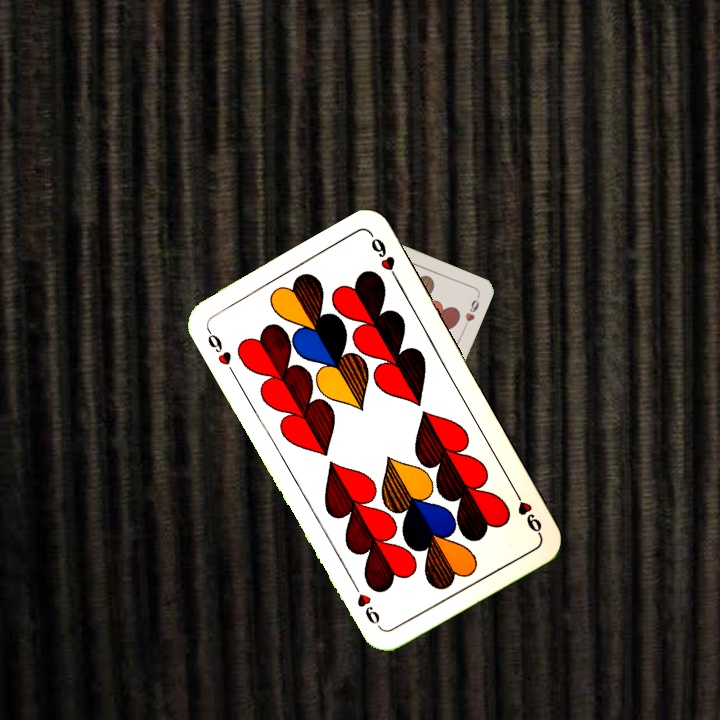H9: (508, 484, 545, 538), (202, 324, 234, 368)
